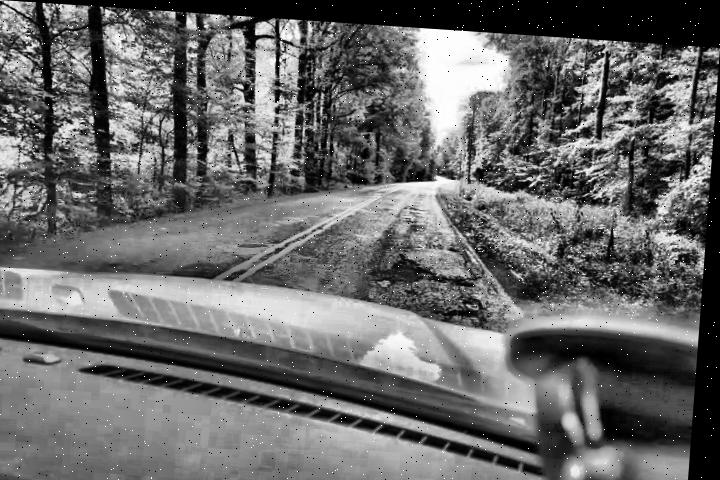pothole: (377, 269, 399, 286)
